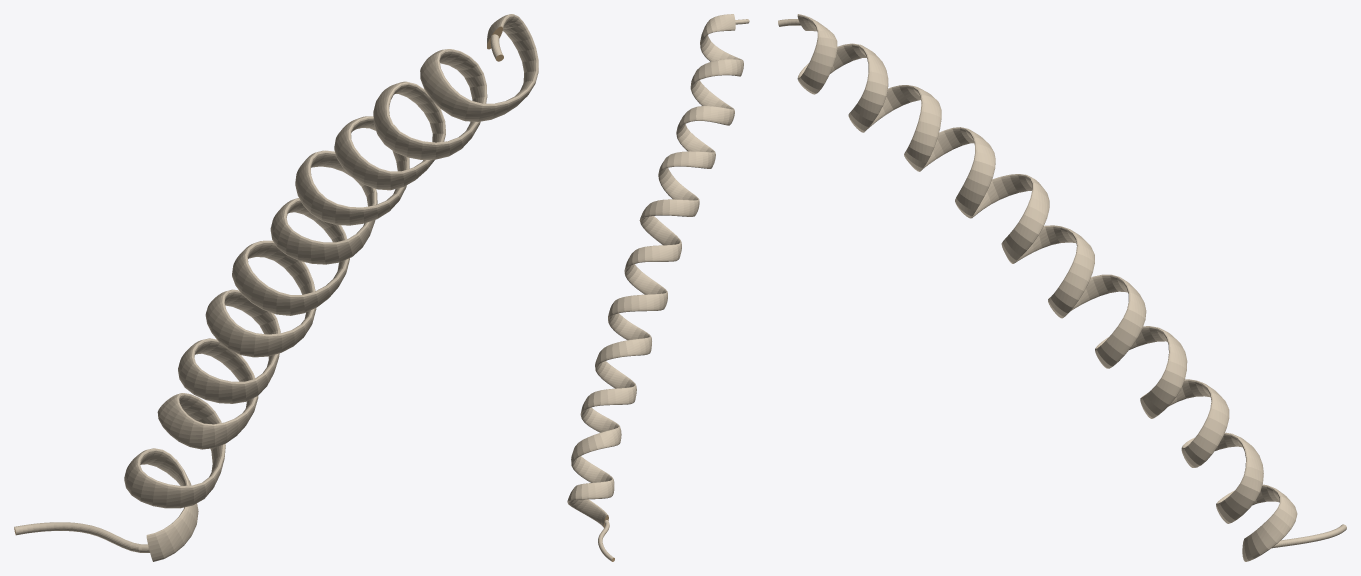
Rendered from SheetHelix.dae.
3 renders of one model, left to right at view 1: azimuth 30°, elevation 25°; view 2: azimuth 150°, elevation 25°; view 3: azimuth 270°, elevation 25°, orthographic. The views are drawn at different scales.
Parts seen in each view (by area): view 1: Shape_IndexedTriangleSet_004; view 2: Shape_IndexedTriangleSet_004; view 3: Shape_IndexedTriangleSet_004.
Part boxes in pixels (<box>): Shape_IndexedTriangleSet_004: <box>14,14,538,561</box>; Shape_IndexedTriangleSet_004: <box>567,14,749,561</box>; Shape_IndexedTriangleSet_004: <box>778,14,1346,561</box>.
Bounding box in the file's own units: 11.66 × 42.36 × 46.54.
